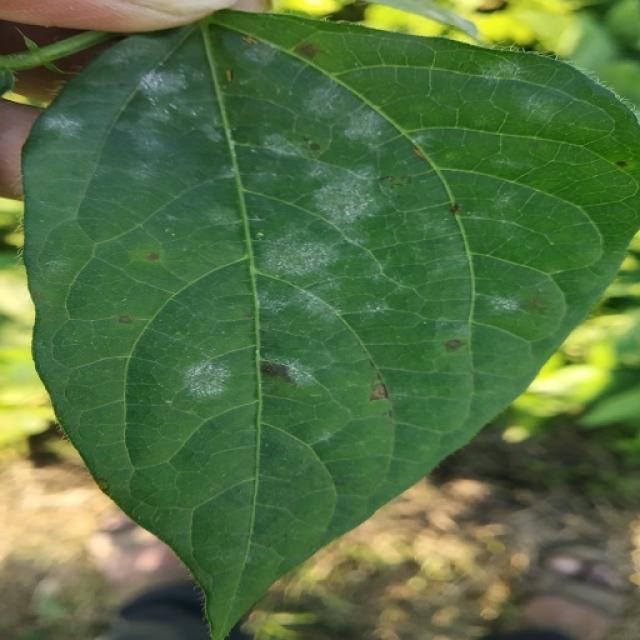Blackgram: (24, 11, 639, 639)
Powdery_Mildew: (97, 65, 216, 187), (315, 164, 392, 246), (497, 77, 602, 128), (565, 159, 640, 228), (134, 60, 198, 110), (336, 103, 387, 145), (183, 358, 232, 398), (272, 359, 316, 391), (128, 246, 169, 268), (487, 294, 525, 313), (360, 300, 394, 316), (378, 174, 410, 189), (303, 136, 321, 151)
